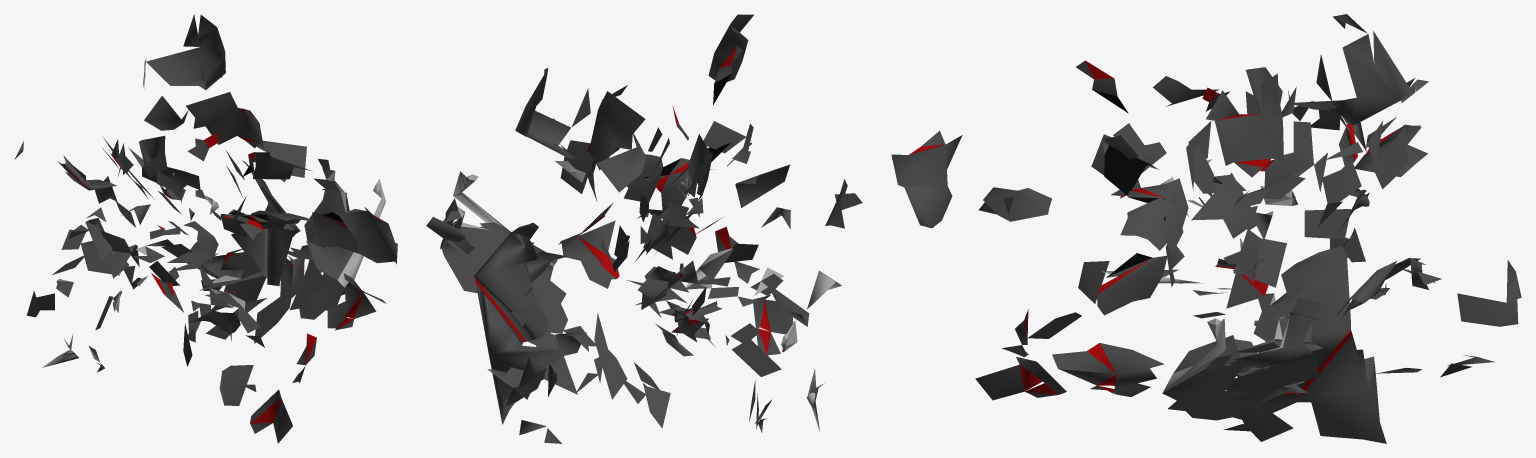
The model's file is spacecraftExplosion_000006.obj.
3 renders of one model, left to right at view 1: azimuth 30°, elevation 25°; view 2: azimuth 150°, elevation 25°; view 3: azimuth 270°, elevation 25°, orthographic. The views are drawn at different scales.
Visible parts, largest first — view 1: Cube; view 2: Cube; view 3: Cube.
Part boxes in pixels (box(x1,y1,x2,y2)): Cube: box(14, 14, 397, 443); Cube: box(426, 14, 862, 443); Cube: box(891, 14, 1521, 443).
Bounding box in the file's own units: 9.93 × 9.05 × 12.61.
